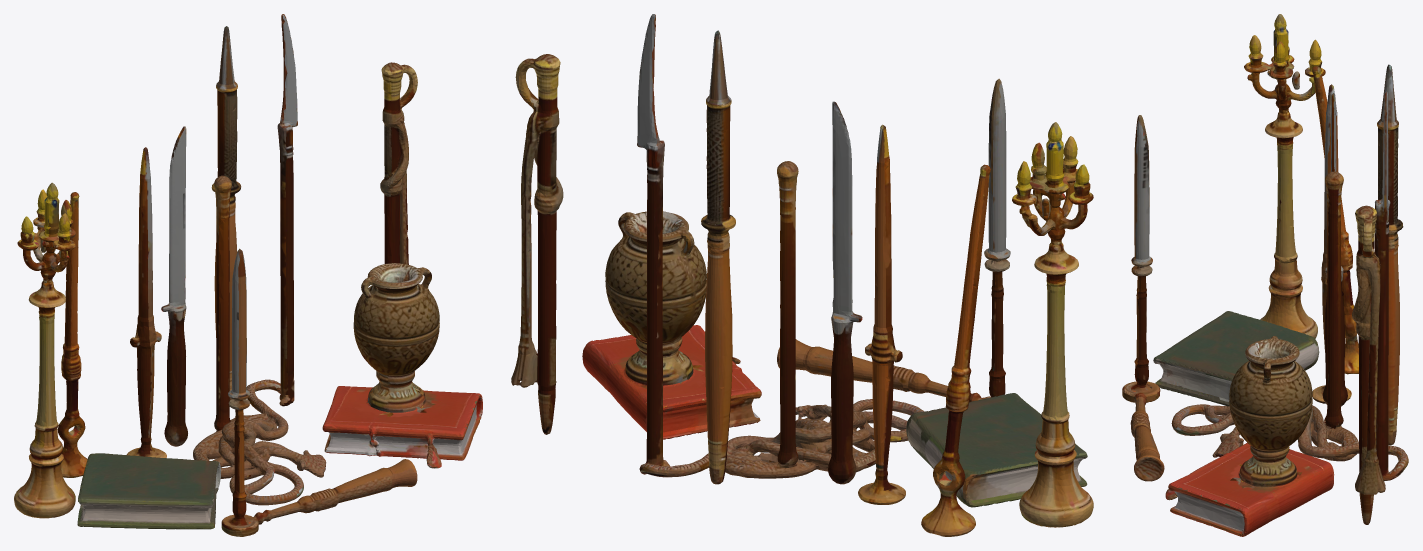
Rendered from improvised weapons.glb.
3 views of the same model, side by side, from view 1: azimuth 30°, elevation 25°; view 2: azimuth 150°, elevation 25°; view 3: azimuth 270°, elevation 25° (orthographic). The views are drawn at different scales.
Visible parts, largest first — view 1: tmpx7p9nl8l; view 2: tmpx7p9nl8l; view 3: tmpx7p9nl8l.
Boxes of the visible parts, left/top/right/bottom form: tmpx7p9nl8l: left=14, top=14, right=482, bottom=536; tmpx7p9nl8l: left=511, top=14, right=1093, bottom=536; tmpx7p9nl8l: left=1122, top=14, right=1408, bottom=536.
Bounding box in the file's own units: 1.99 × 1.67 × 1.11.
Materials: 1 (1 with a texture image).
